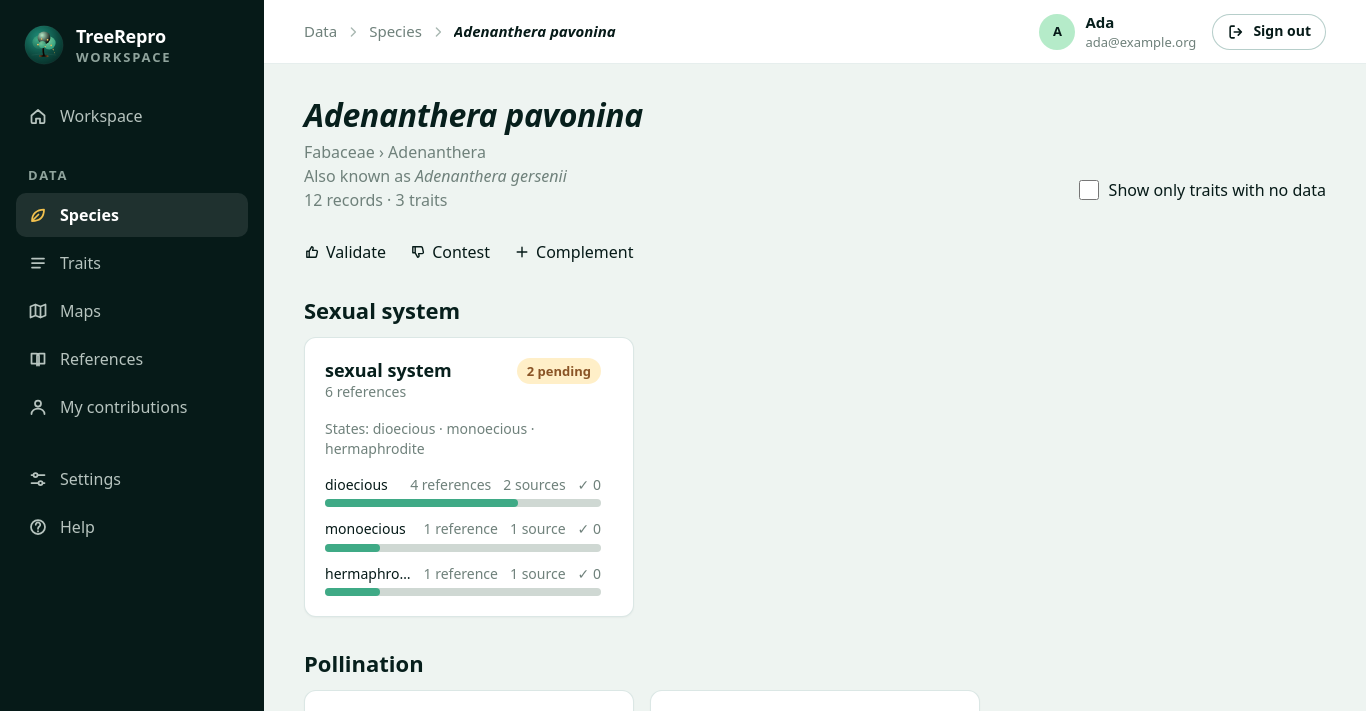
Test: RFC-63 R8, R9 SpeciesPage trait panel and record drawer › maps RECORD_NOT_FOUND inside the drawer
Expected: the heading "Adenanthera pavonina" is shown, left=304, top=96, right=643, bottom=134
Click the button "sexual system" at (388, 370), box left=325, top=358, right=601, bottom=459
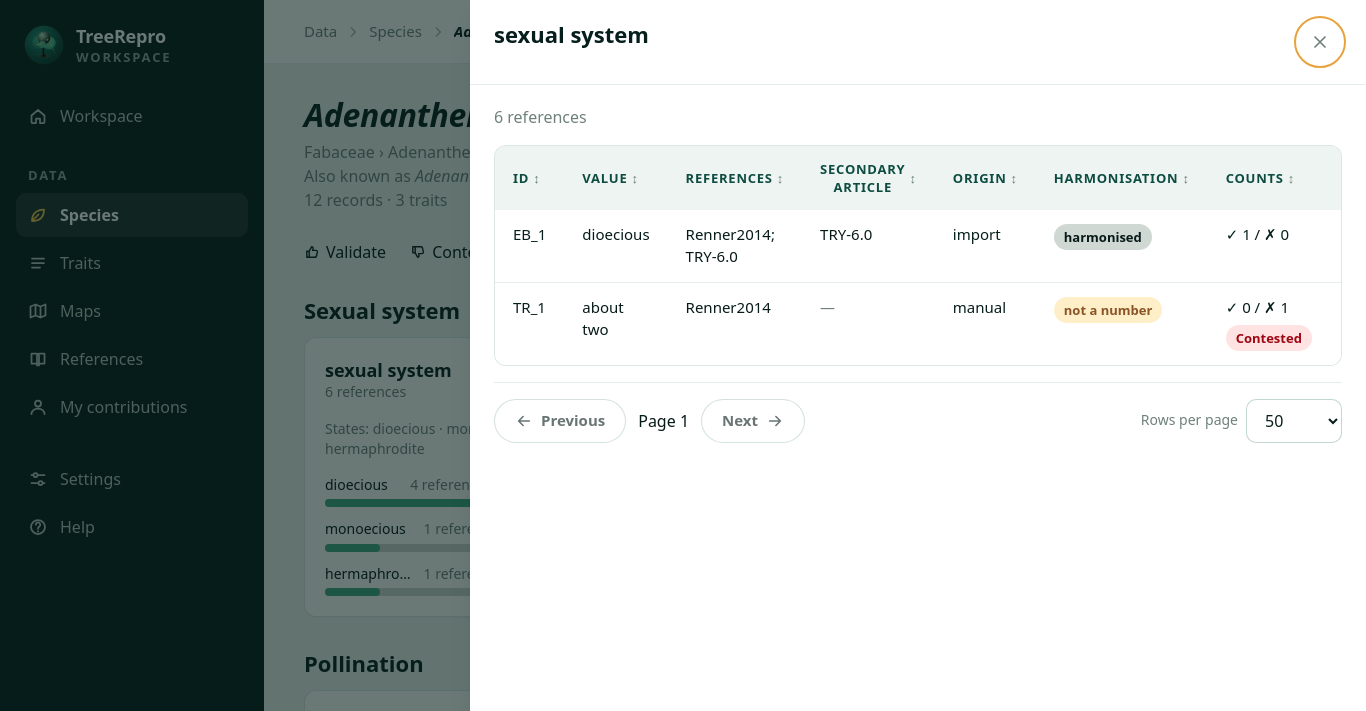
Click the button "dioecious" at (616, 235), box left=582, top=224, right=650, bottom=246
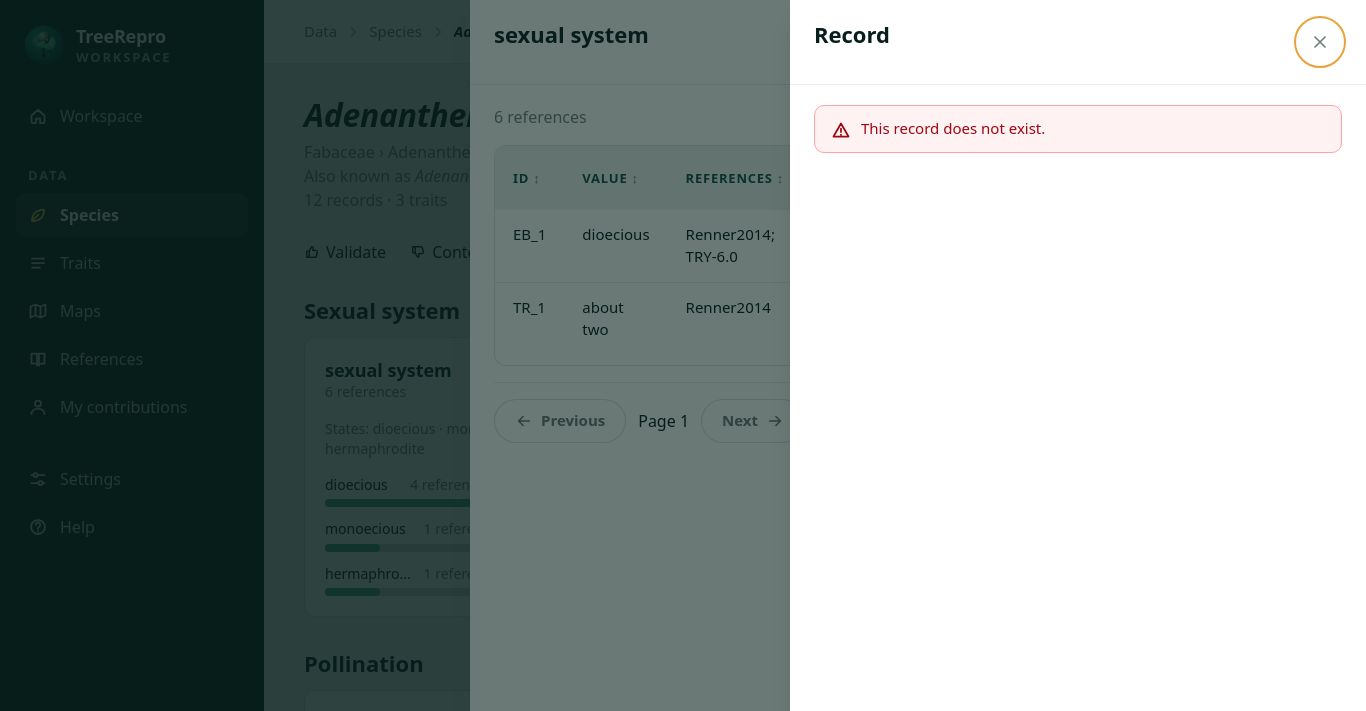
Result: the message reads "This record does not exist." at left=861, top=118, right=1045, bottom=138
